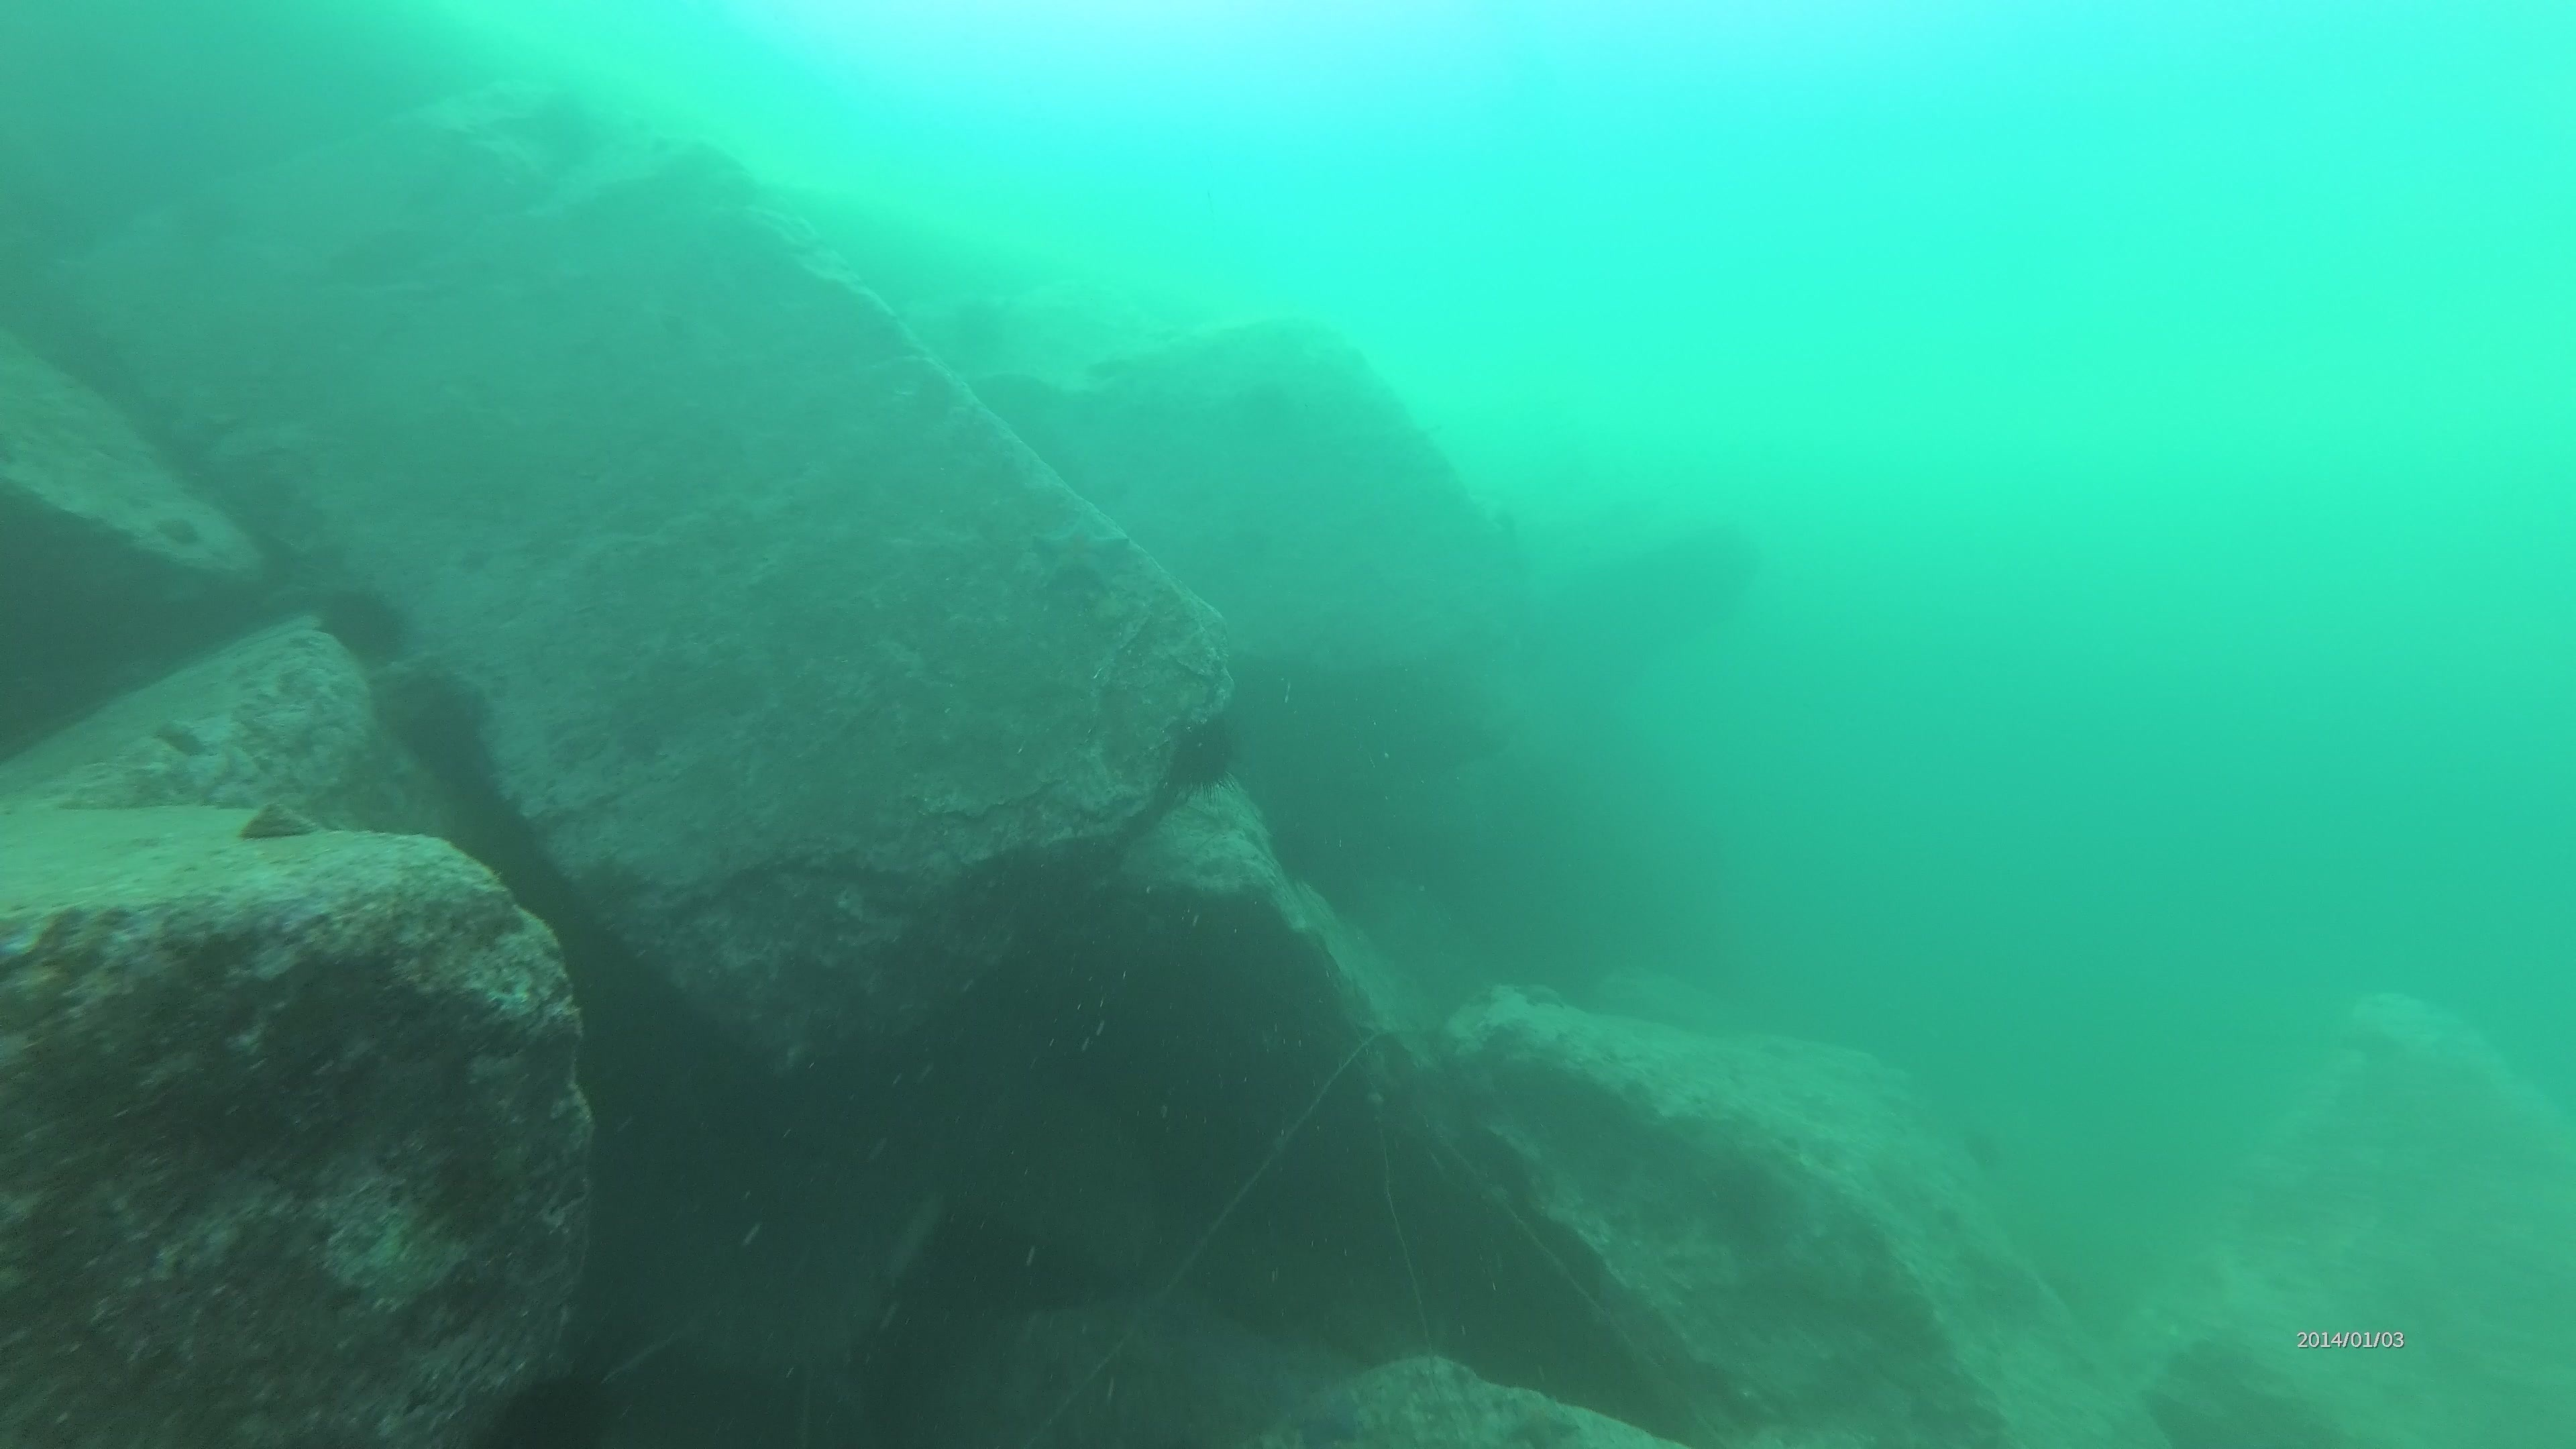echinus: (479, 1359, 632, 1444), (310, 577, 418, 672), (1152, 702, 1247, 801)
starfish: (1021, 513, 1132, 609)
